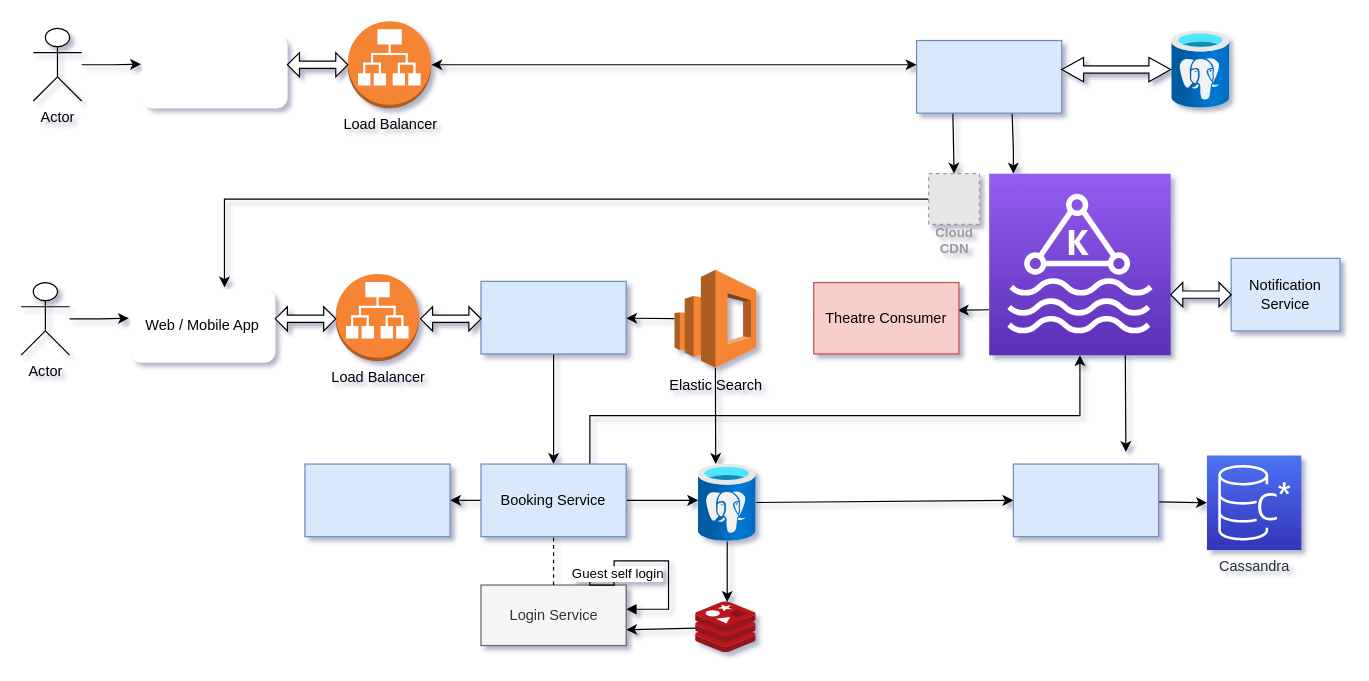
This 1369x681 diagram has some shape labels left out. Grey dashed boxes stand in for pictures. The centre of each missing label's shape, as x and y in pixels:
"Archival Service" belongs at pixel 1085 500.
"Kafka Cluster" belongs at pixel 1079 263.
"Payment Service" belongs at pixel 377 500.
"Search Service" belongs at pixel 553 317.
"Theatre Management UI" belongs at pixel 214 71.
"Theatre Service" belongs at pixel 988 76.
